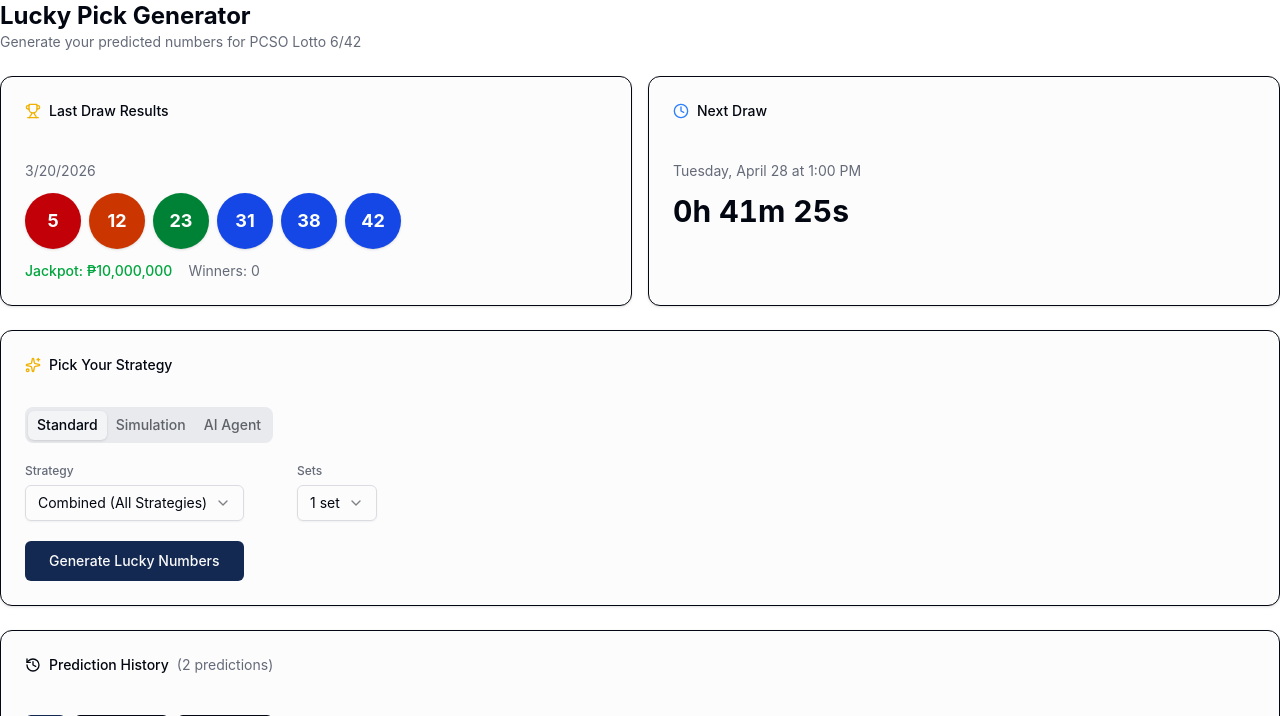
it: LuckyPickPage › veteran combobox shows no veteran note when no veterans exist
The image size is (1280, 716).
Click the tab "Simulation" at coordinates (151, 425), box [107,410,195,440]
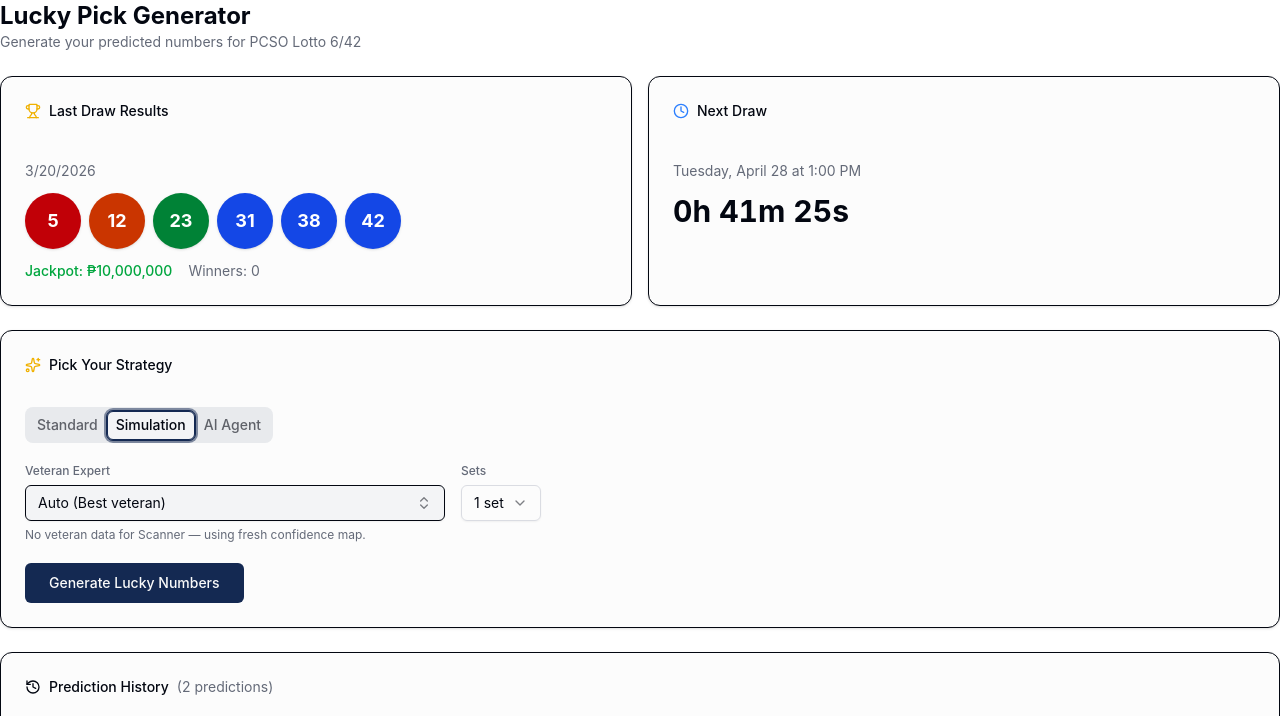
Now the text "No veteran data for Scanner — using fresh confidence map." is shown, box [25,527,366,542]
